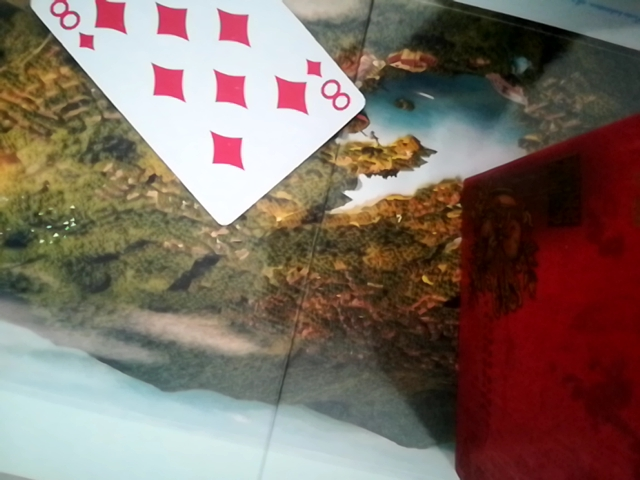fk 8: (25, 0, 368, 228)
